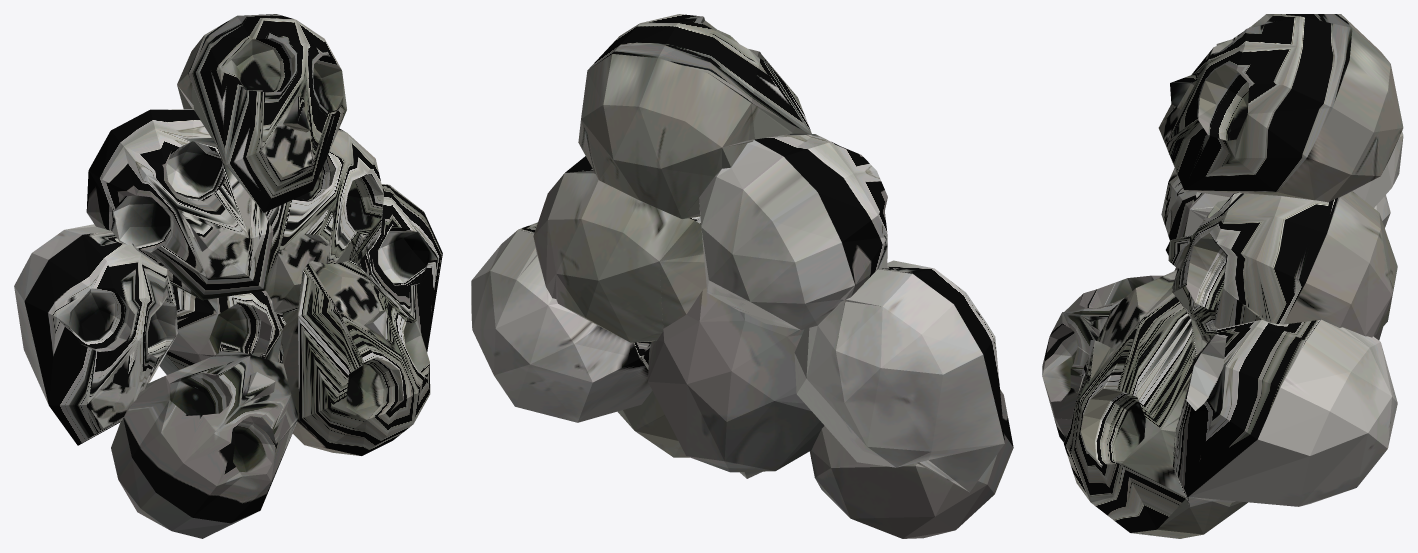
The model's file is Bones.glb.
3 views of the same model, side by side, from view 1: azimuth 30°, elevation 25°; view 2: azimuth 150°, elevation 25°; view 3: azimuth 270°, elevation 25° (orthographic). The views are drawn at different scales.
Parts seen in each view (by area): view 1: Bones; view 2: Bones; view 3: Bones.
Part boxes in pixels (left/top/right/bottom): Bones: left=14, top=14, right=442, bottom=538; Bones: left=471, top=14, right=1013, bottom=538; Bones: left=1042, top=14, right=1403, bottom=538.
Size of the model in its own units: 192 by 192 by 118.
Materials: 1 (1 with a texture image).
